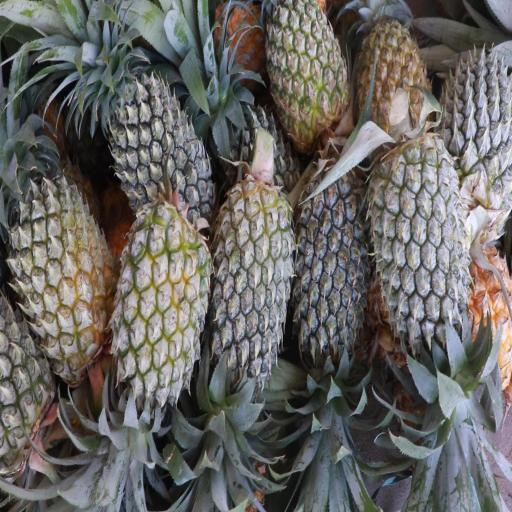------------------------------: (114, 209, 206, 420), (11, 180, 108, 370), (269, 0, 347, 154), (356, 0, 429, 150)
